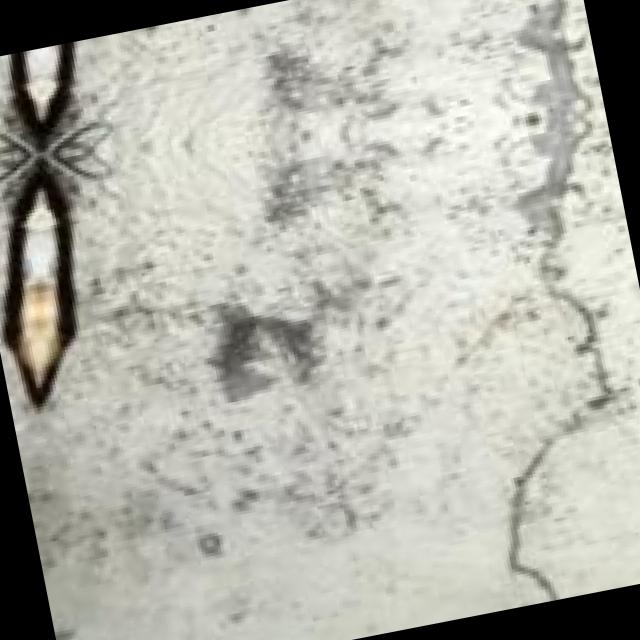crack: (391, 257, 640, 617)
